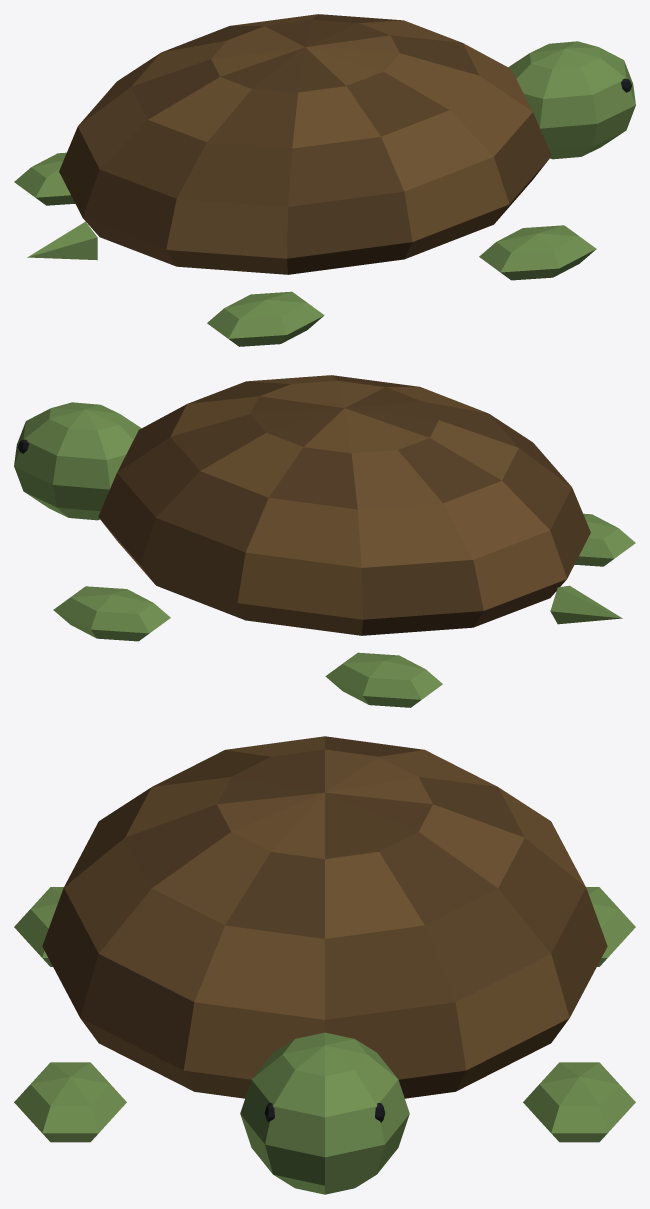
File: fish-turtle.glb
3 views of the same model, one above another, from view 1: azimuth 30°, elevation 25°; view 2: azimuth 150°, elevation 25°; view 3: azimuth 270°, elevation 25° (orthographic). The views are drawn at different scales.
Visible parts, largest first — view 1: fish-turtle; view 2: fish-turtle; view 3: fish-turtle.
Boxes of the visible parts, x1,y1,x2,y2 form: fish-turtle: (14,14,635,346); fish-turtle: (14,375,635,707); fish-turtle: (14,736,635,1194).
Bounding box in the file's own units: 0.98 × 0.29 × 0.66.
